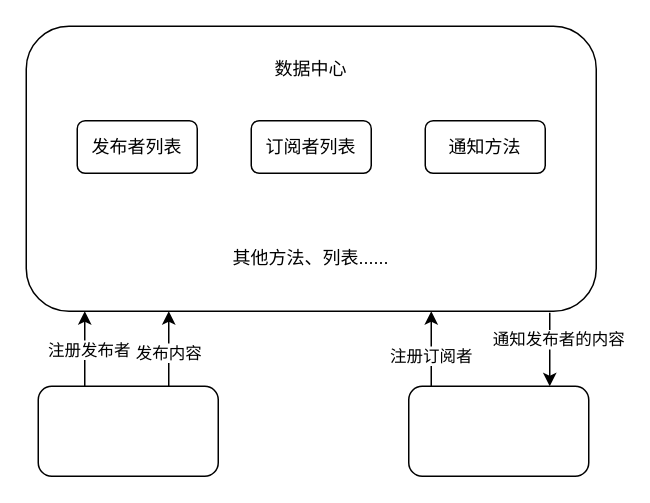
Image size: 650x503. Some labels were removed from this diagram. Each missing label, with the centre of its shape:
"发布者" belongs at point (127, 430).
"订阅者" belongs at point (498, 430).
